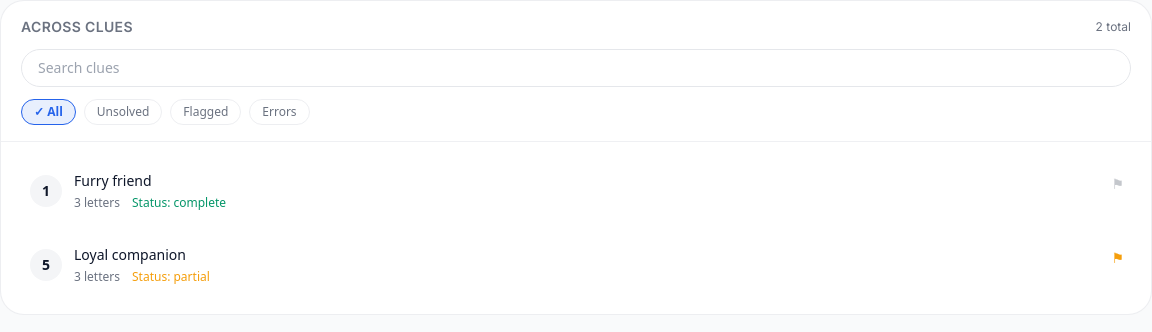
Test: ClueList preset filters (#13) › filters compose with search and show a clear empty state when nothing matches
Click the button "Errors" at [279, 112], box [249,99,310,125]
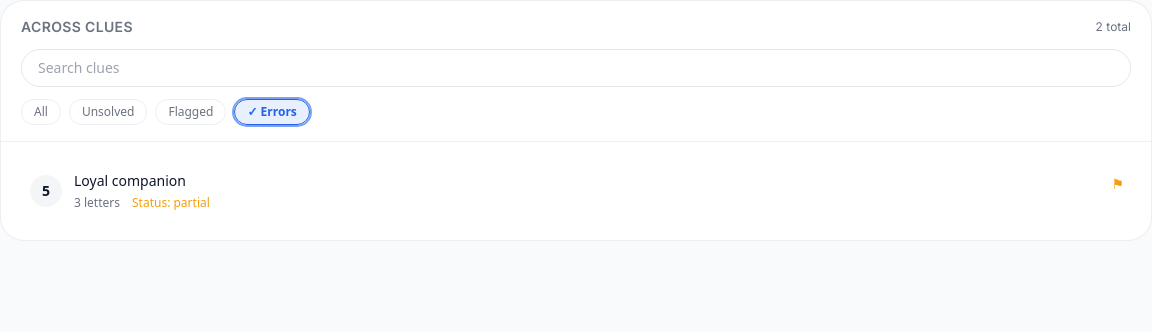
Type "furry" into the field with placeholder "Search clues" at [576, 68], box [21,49,1131,87]
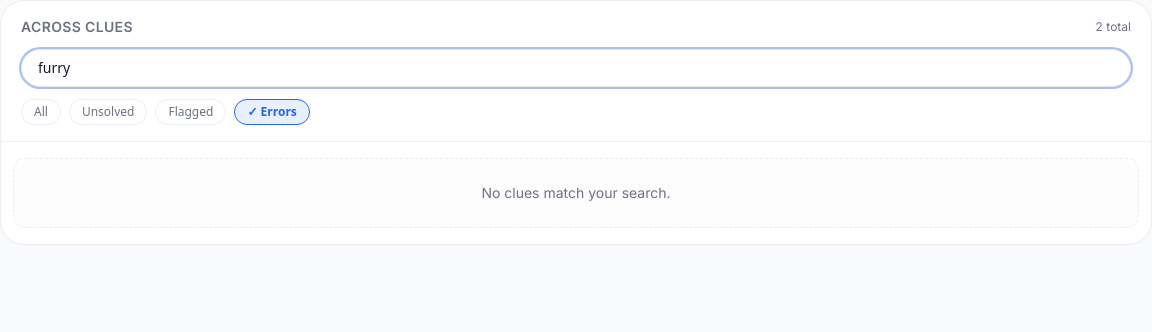
Check: the button "Loyal companion" is gone
Check: the text "No clues match your search." is shown, box [13,158,1139,228]
